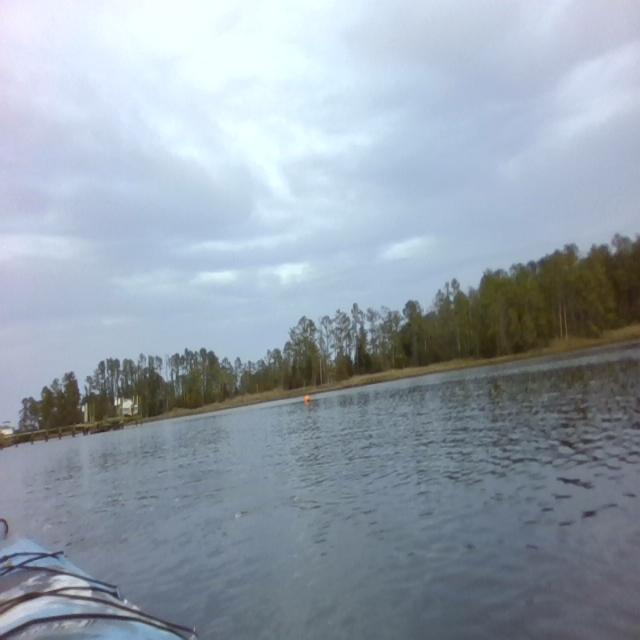Buoy: (304, 393, 311, 405)
